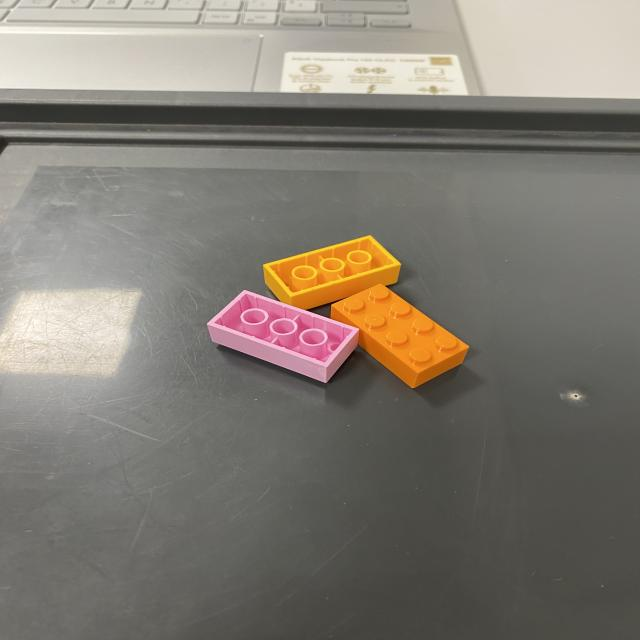C4x2x1: (206, 292, 357, 384), (336, 286, 472, 374), (264, 234, 400, 296), (334, 305, 423, 388), (418, 348, 472, 387), (264, 266, 291, 306)
